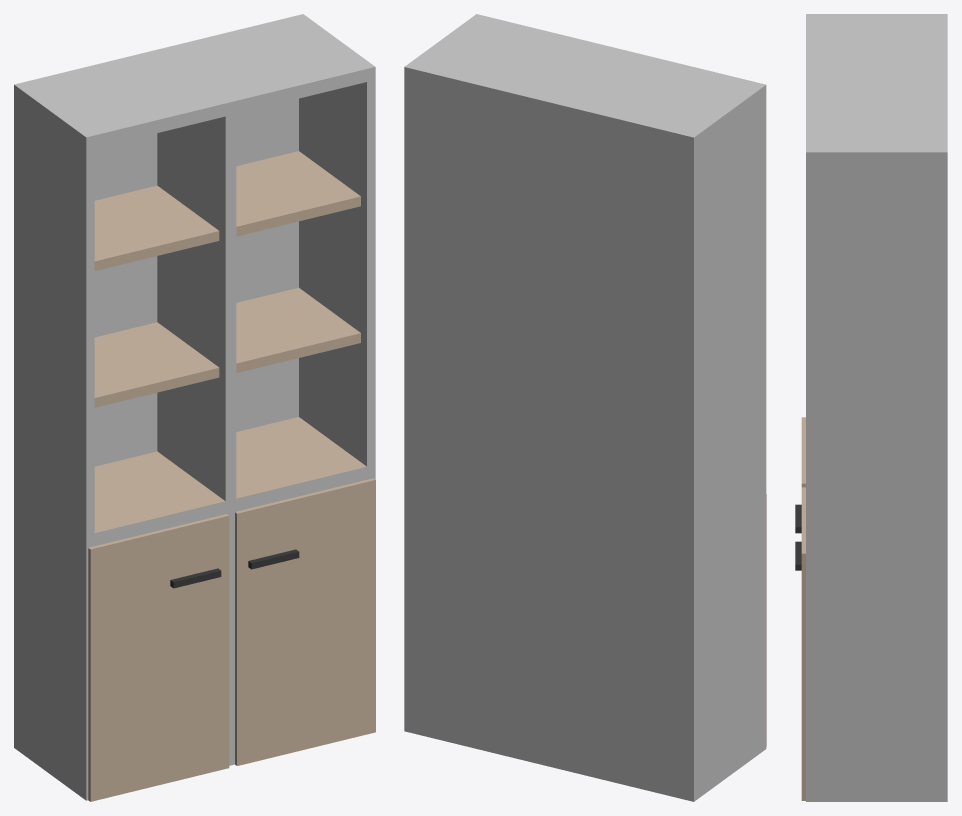
File: cabinet3.FBX
3 views of the same model, side by side, from view 1: azimuth 30°, elevation 25°; view 2: azimuth 150°, elevation 25°; view 3: azimuth 270°, elevation 25° (orthographic). The views are drawn at different scales.
Parts seen in each view (by area): view 1: cabinet3, cabinet_02, cabinet_01; view 2: cabinet3; view 3: cabinet3, cabinet_01, cabinet_02.
Part boxes in pixels (x1=…): cabinet3: x1=14, y1=14, x2=375, y2=800; cabinet_02: x1=88, y1=514, x2=229, y2=801; cabinet_01: x1=235, y1=478, x2=375, y2=765; cabinet3: x1=404, y1=14, x2=766, y2=801; cabinet3: x1=806, y1=14, x2=947, y2=801; cabinet_01: x1=795, y1=487, x2=805, y2=800; cabinet_02: x1=795, y1=417, x2=805, y2=533.
Size of the model in its own units: 116 by 254 by 53.91.
1 material, 1 textured.
